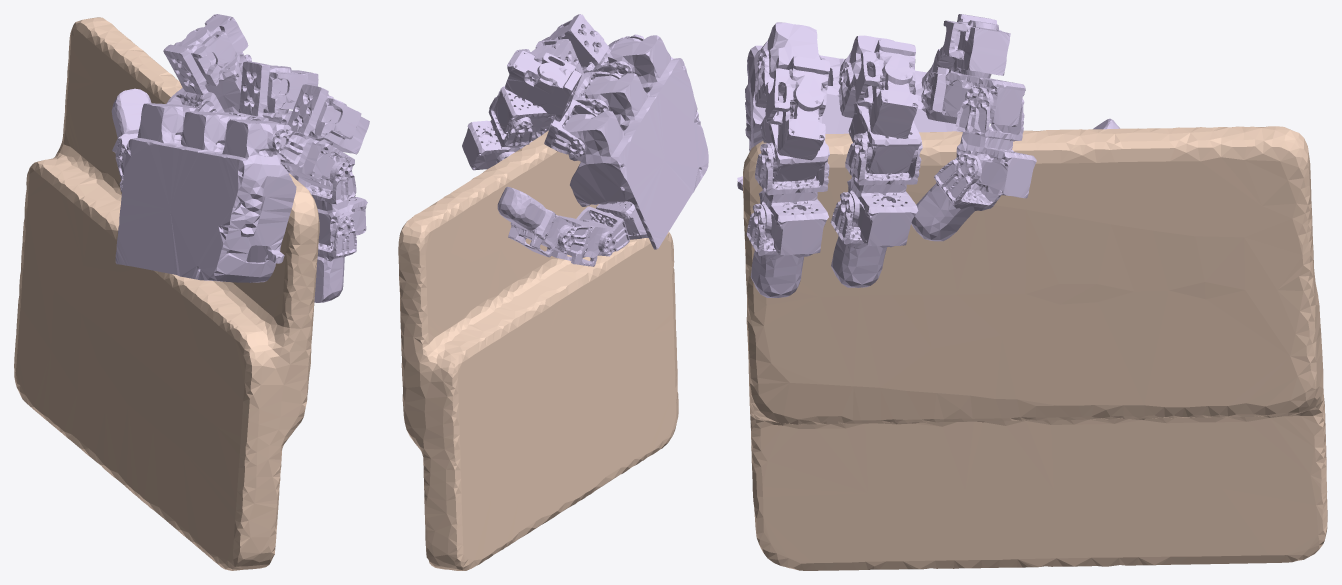
The picture shows the model from 3 angles, left to right: view 1: azimuth 30°, elevation 25°; view 2: azimuth 150°, elevation 25°; view 3: azimuth 270°, elevation 25°; orthographic projection. The views are drawn at different scales.
Parts seen in each view (by area): view 1: world, LEAP_hand; view 2: world, LEAP_hand; view 3: world, LEAP_hand.
Boxes of the visible parts, box(x1,y1,x2,y2) form: world: box(14, 17, 319, 570); LEAP_hand: box(111, 14, 369, 302); world: box(398, 130, 678, 570); LEAP_hand: box(462, 14, 708, 266); world: box(742, 126, 1327, 570); LEAP_hand: box(737, 14, 1119, 297).
Size of the model in its own units: 0.1405 by 0.3346 by 0.313.
